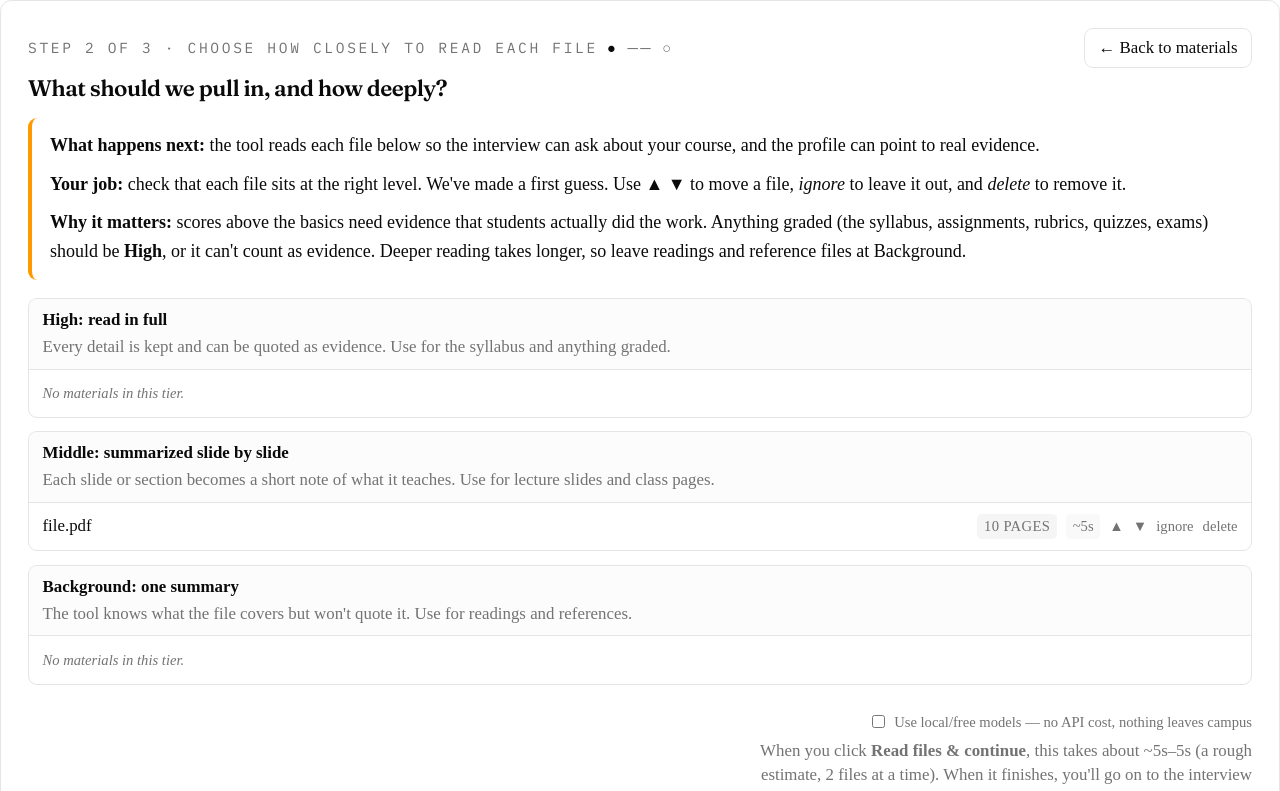
Test: TriageStep › time estimate chips › total recomputes when a row is moved to a higher tier (per-row chip changes)
The image size is (1280, 791).
Expected: the text "~5s" is shown, [1066,514,1100,539]
Click the button named "move up" at (1117, 527), box [1109,516,1124,537]
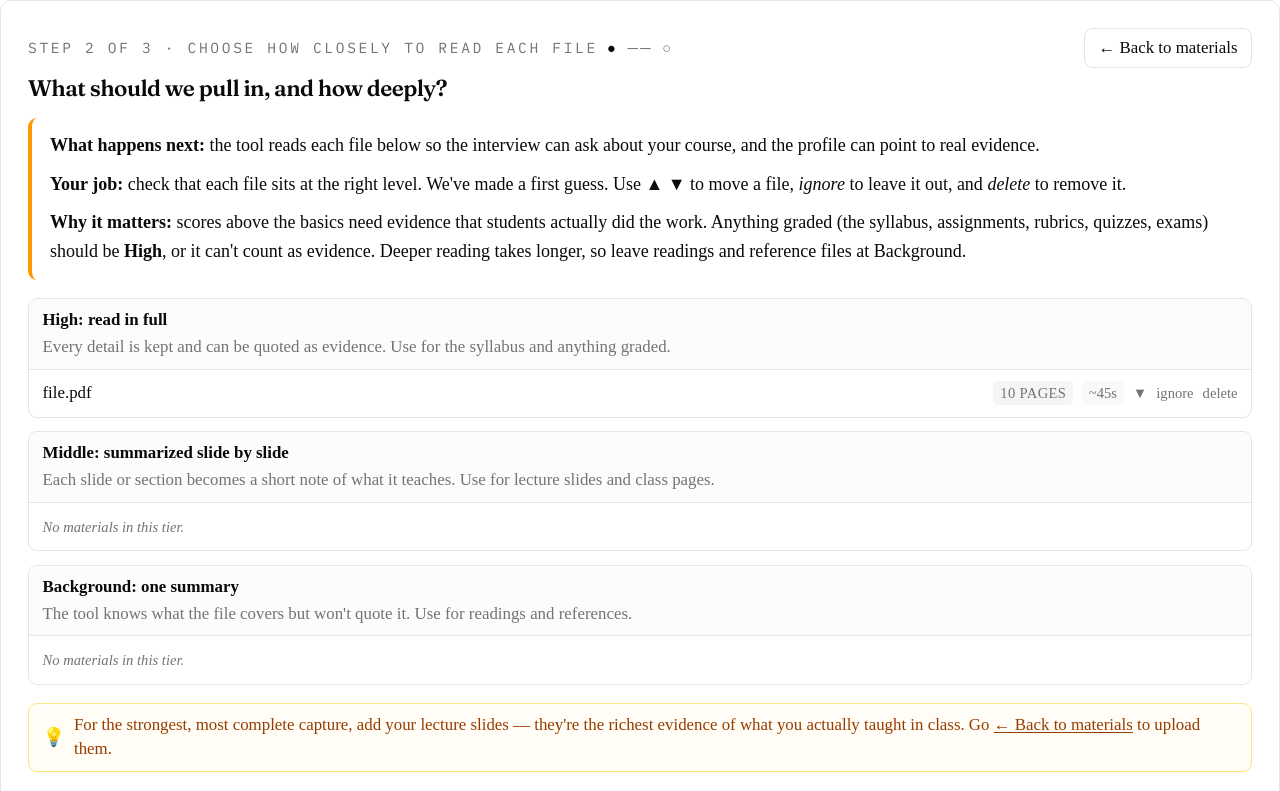
Result: the text "~45s" is shown at [1082,381,1124,406]
